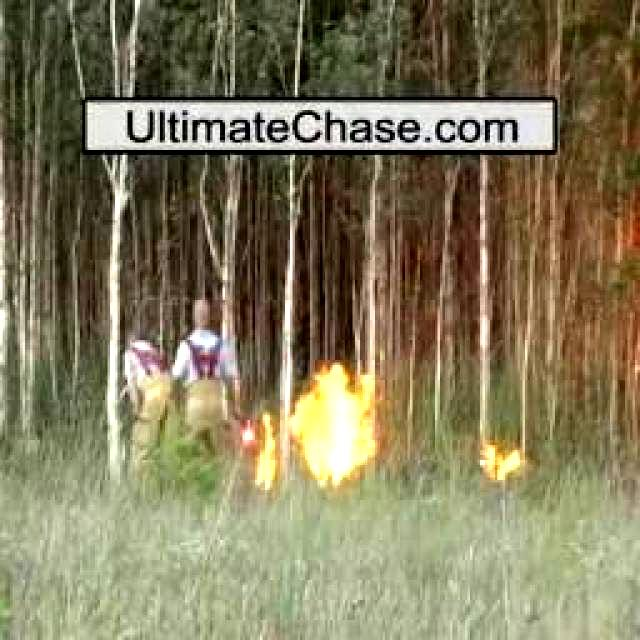fire: (292, 357, 380, 495), (243, 420, 280, 488), (476, 444, 524, 488)
